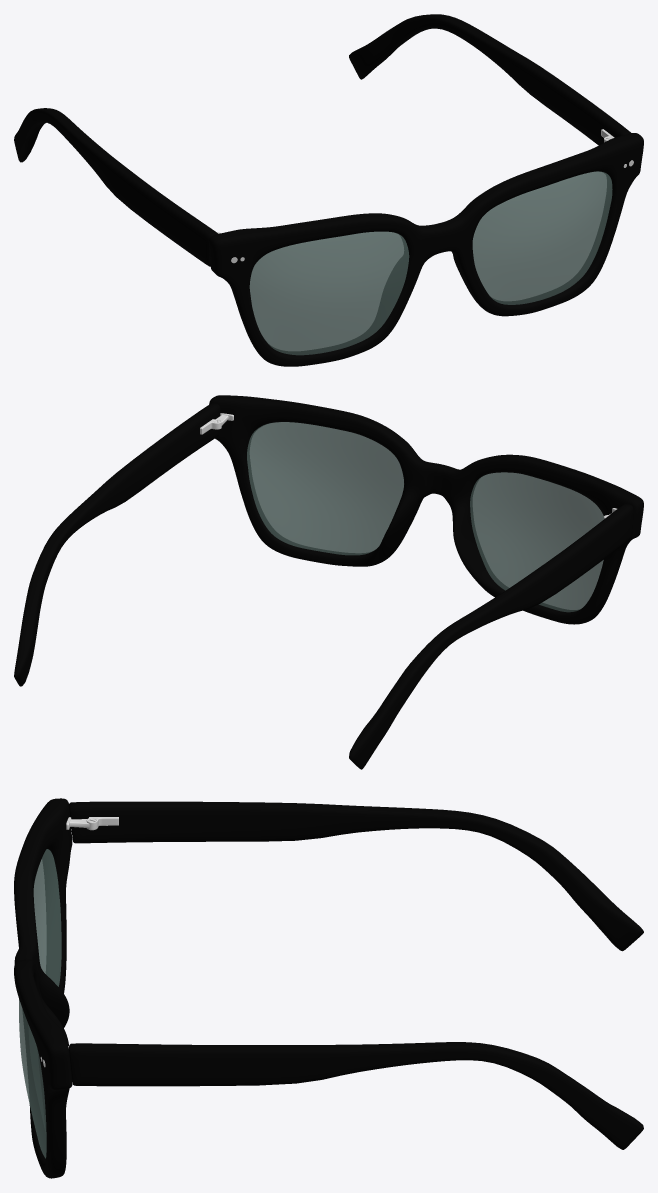
File: beale-sun-sbf-jet-black_wide.glb
The picture shows the model from 3 angles, top to bottom: view 1: azimuth 30°, elevation 25°; view 2: azimuth 150°, elevation 25°; view 3: azimuth 270°, elevation 25°; orthographic projection. The views are drawn at different scales.
Parts seen in each view (by area): view 1: lenses, face_front, left_temple, right_temple; view 2: lenses, face_front, right_temple, left_temple; view 3: left_temple, right_temple, face_front, lenses.
Part boxes in pixels (<box>): lenses: <box>249,171,612,355</box>; face_front: <box>209,133,643,366</box>; left_temple: <box>349,14,631,145</box>; right_temple: <box>14,108,218,266</box>; lenses: <box>247,422,603,612</box>; face_front: <box>209,395,643,624</box>; right_temple: <box>349,504,633,769</box>; left_temple: <box>14,403,220,686</box>; left_temple: <box>69,1042,643,1149</box>; right_temple: <box>69,801,643,951</box>; face_front: <box>14,798,72,1178</box>; lenses: <box>19,849,61,1158</box>.
Size of the model in its own units: 0.1435 by 0.0468 by 0.152.
